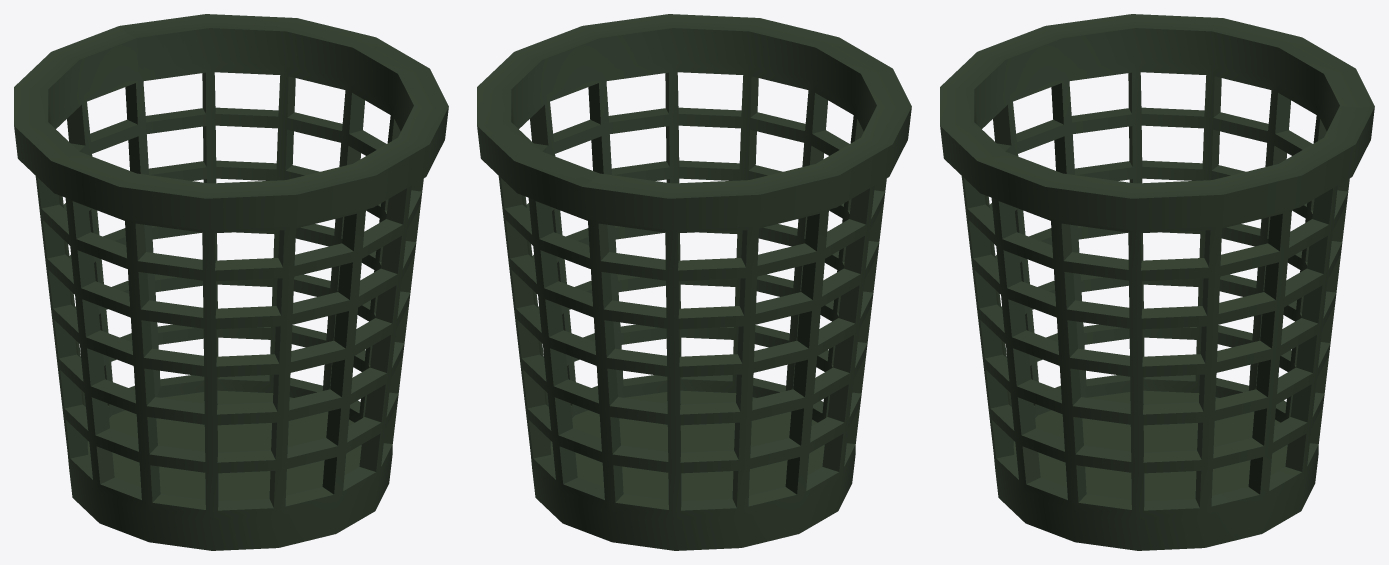
File: copkutusu.fbx
3 views of the same model, side by side, from view 1: azimuth 30°, elevation 25°; view 2: azimuth 150°, elevation 25°; view 3: azimuth 270°, elevation 25° (orthographic).
Visible parts, largest first — view 1: Cylinder.006; view 2: Cylinder.006; view 3: Cylinder.006.
Boxes of the visible parts, x1=… form: Cylinder.006: x1=14, y1=14, x2=448, y2=550; Cylinder.006: x1=477, y1=14, x2=911, y2=550; Cylinder.006: x1=940, y1=14, x2=1374, y2=550.
Size of the model in its own units: 134 by 133 by 127.
